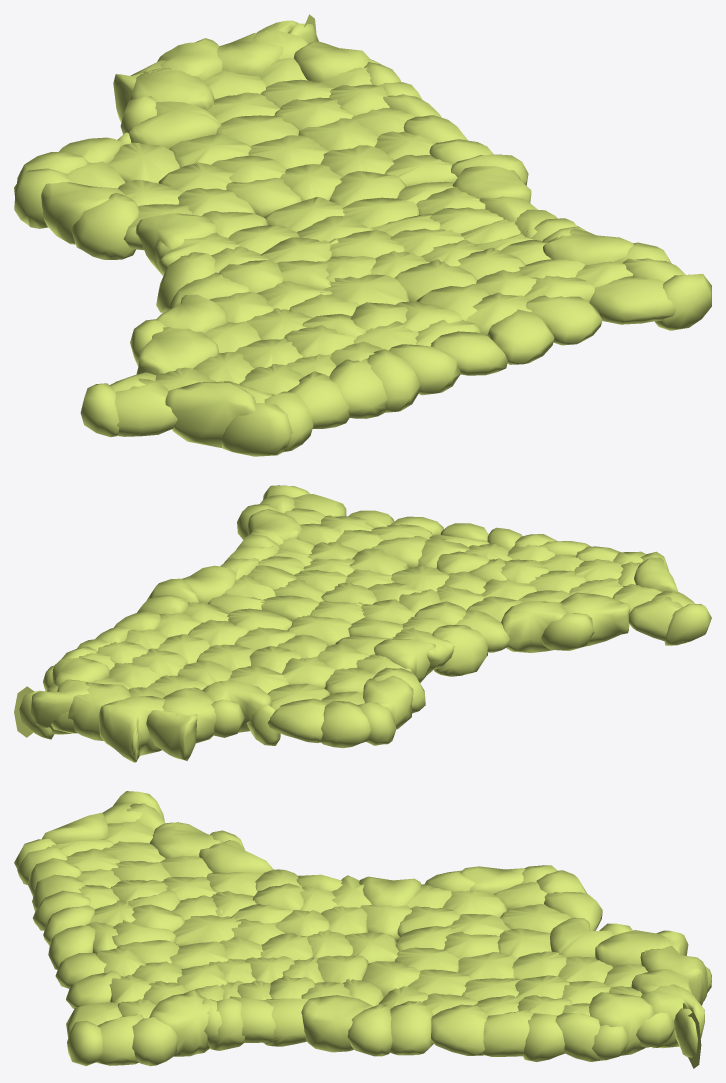
File: Islands1.003_fog.fbx
3 views of the same model, one above another, from view 1: azimuth 30°, elevation 25°; view 2: azimuth 150°, elevation 25°; view 3: azimuth 270°, elevation 25° (orthographic). The views are drawn at different scales.
Visible parts, largest first — view 1: Island1.003_fog_cell.068, Island1.003_fog_cell.081, Island1.003_fog_cell.071, Island1.003_fog_cell.060, Island1.003_fog_cell.016, Island1.003_fog_cell.114, Island1.003_fog_cell.065, Island1.003_fog_cell.129, Island1.003_fog_cell.078, Island1.003_fog_cell.112, Island1.003_fog_cell.044, Island1.003_fog_cell.104 (+100 smaller); view 2: Island1.003_fog_cell.102, Island1.003_fog_cell.098, Island1.003_fog_cell.114, Island1.003_fog_cell.096, Island1.003_fog_cell.097, Island1.003_fog_cell.058, Island1.003_fog_cell.003, Island1.003_fog_cell.049, Island1.003_fog_cell.104, Island1.003_fog_cell.119, Island1.003_fog_cell.129, Island1.003_fog_cell.105 (+93 smaller); view 3: Island1.003_fog_cell.051, Island1.003_fog_cell.079, Island1.003_fog_cell.036, Island1.003_fog_cell.066, Island1.003_fog_cell.095, Island1.003_fog_cell.085, Island1.003_fog_cell.055, Island1.003_fog_cell.070, Island1.003_fog_cell.104, Island1.003_fog_cell.102, Island1.003_fog_cell.114, Island1.003_fog_cell.016 (+105 smaller).
Boxes of the visible parts, x1,y1,x2,y2 form: Island1.003_fog_cell.068: (165, 382, 255, 447); Island1.003_fog_cell.081: (589, 276, 675, 324); Island1.003_fog_cell.071: (71, 192, 139, 259); Island1.003_fog_cell.060: (222, 403, 292, 456); Island1.003_fog_cell.016: (128, 101, 221, 149); Island1.003_fog_cell.114: (136, 327, 219, 375); Island1.003_fog_cell.065: (115, 378, 177, 436); Island1.003_fog_cell.129: (41, 182, 125, 244); Island1.003_fog_cell.078: (526, 295, 602, 345); Island1.003_fog_cell.112: (487, 309, 554, 364); Island1.003_fog_cell.044: (329, 358, 387, 418); Island1.003_fog_cell.104: (130, 67, 214, 110); Island1.003_fog_cell.102: (99, 696, 165, 762); Island1.003_fog_cell.098: (501, 601, 566, 652); Island1.003_fog_cell.114: (560, 592, 629, 646); Island1.003_fog_cell.096: (146, 705, 197, 760); Island1.003_fog_cell.097: (432, 625, 488, 676); Island1.003_fog_cell.058: (320, 700, 370, 748); Island1.003_fog_cell.003: (267, 698, 328, 743); Island1.003_fog_cell.049: (68, 682, 130, 740); Island1.003_fog_cell.104: (162, 687, 216, 743); Island1.003_fog_cell.119: (30, 679, 96, 734); Island1.003_fog_cell.129: (363, 675, 413, 729); Island1.003_fog_cell.105: (541, 613, 594, 650); Island1.003_fog_cell.051: (301, 995, 373, 1052); Island1.003_fog_cell.079: (149, 989, 210, 1056); Island1.003_fog_cell.036: (431, 1004, 487, 1055); Island1.003_fog_cell.066: (589, 992, 654, 1055); Island1.003_fog_cell.095: (390, 1001, 433, 1055); Island1.003_fog_cell.085: (482, 1009, 533, 1056); Island1.003_fog_cell.055: (347, 1003, 392, 1056); Island1.003_fog_cell.070: (132, 1017, 178, 1066); Island1.003_fog_cell.104: (595, 930, 670, 967); Island1.003_fog_cell.102: (640, 946, 707, 1005); Island1.003_fog_cell.114: (150, 822, 220, 858); Island1.003_fog_cell.016: (550, 917, 613, 957).
Size of the model in its own units: 123 by 13.47 by 144.
